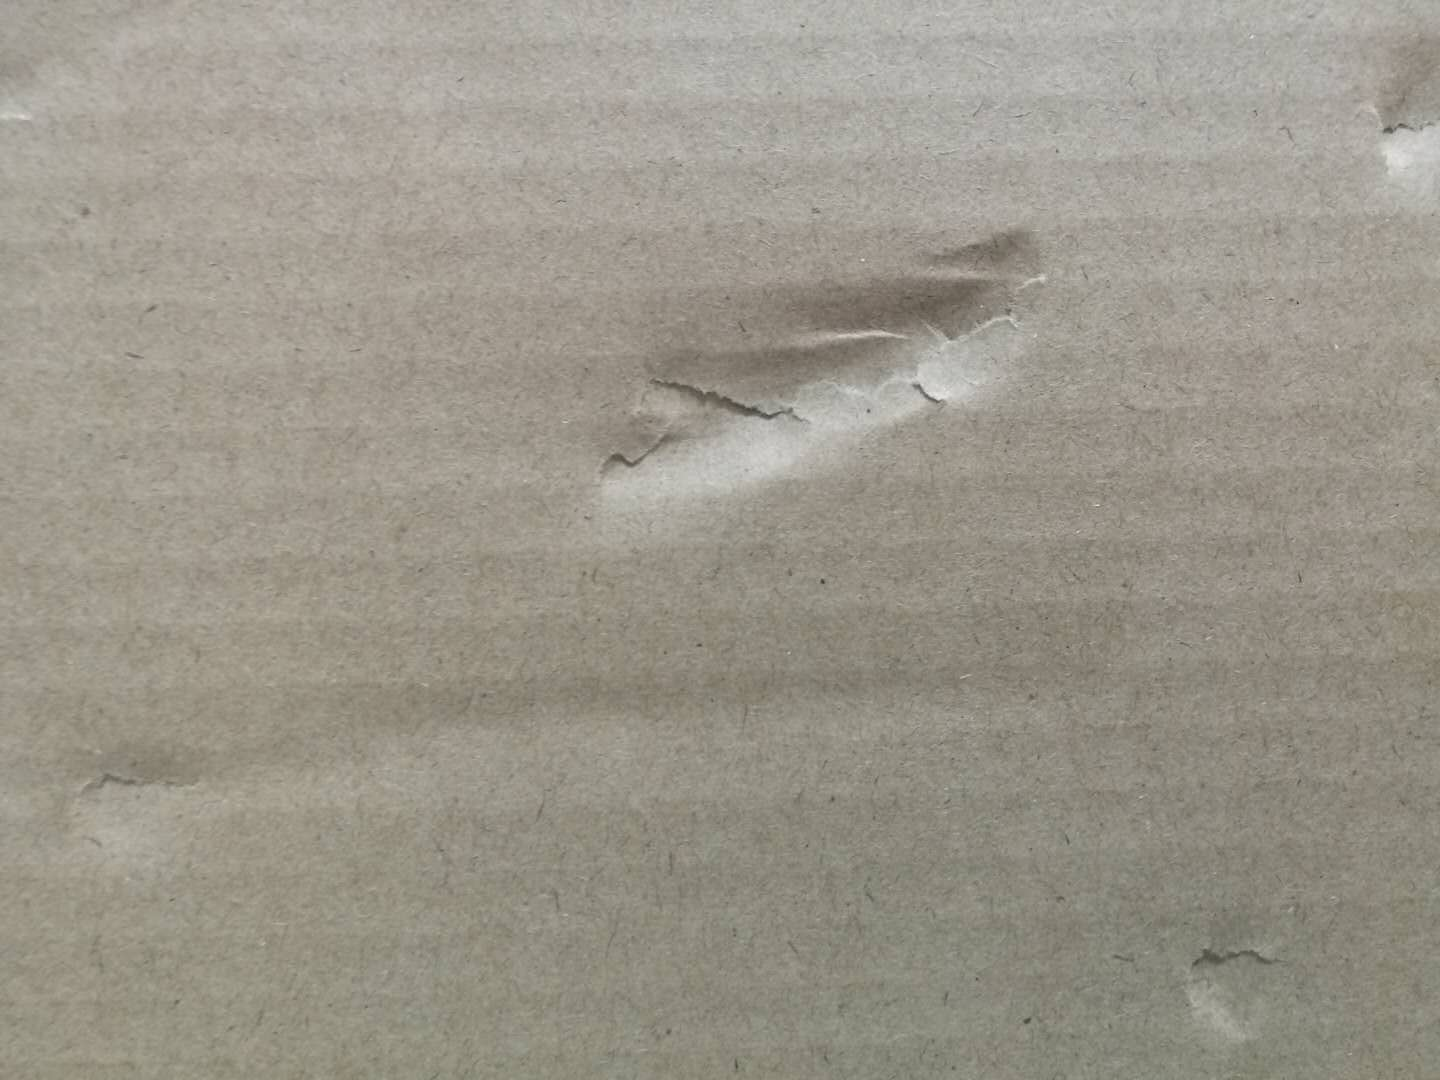defect: (5, 642, 1096, 884), (554, 196, 1086, 529), (5, 1, 183, 151), (1168, 926, 1313, 1062), (1347, 26, 1440, 201)
